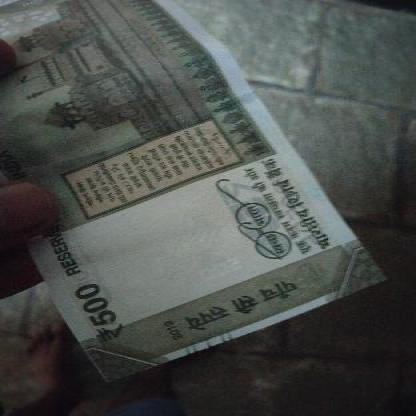New500Back: (0, 0, 382, 385)
